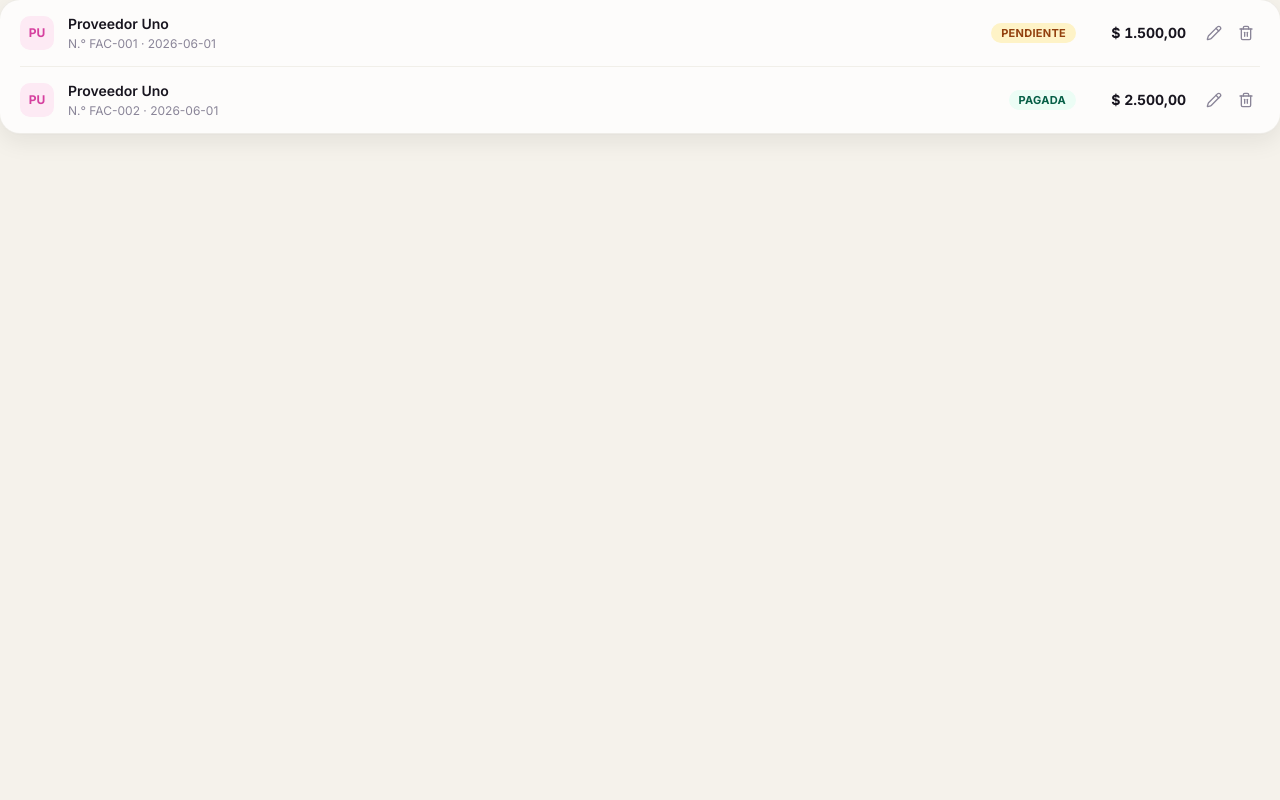
Scenario: FacturasList › opens the read-only detail when the row is activated (c-26)
Expected: the text "FAC-001" is shown, [89, 36, 138, 51]
What coordinates should you click on to do the following:
click the button with aria-label "ver detalle de la factura FAC-001"
I would click on:
 (37, 33)
Its box is [20, 14, 1186, 52].
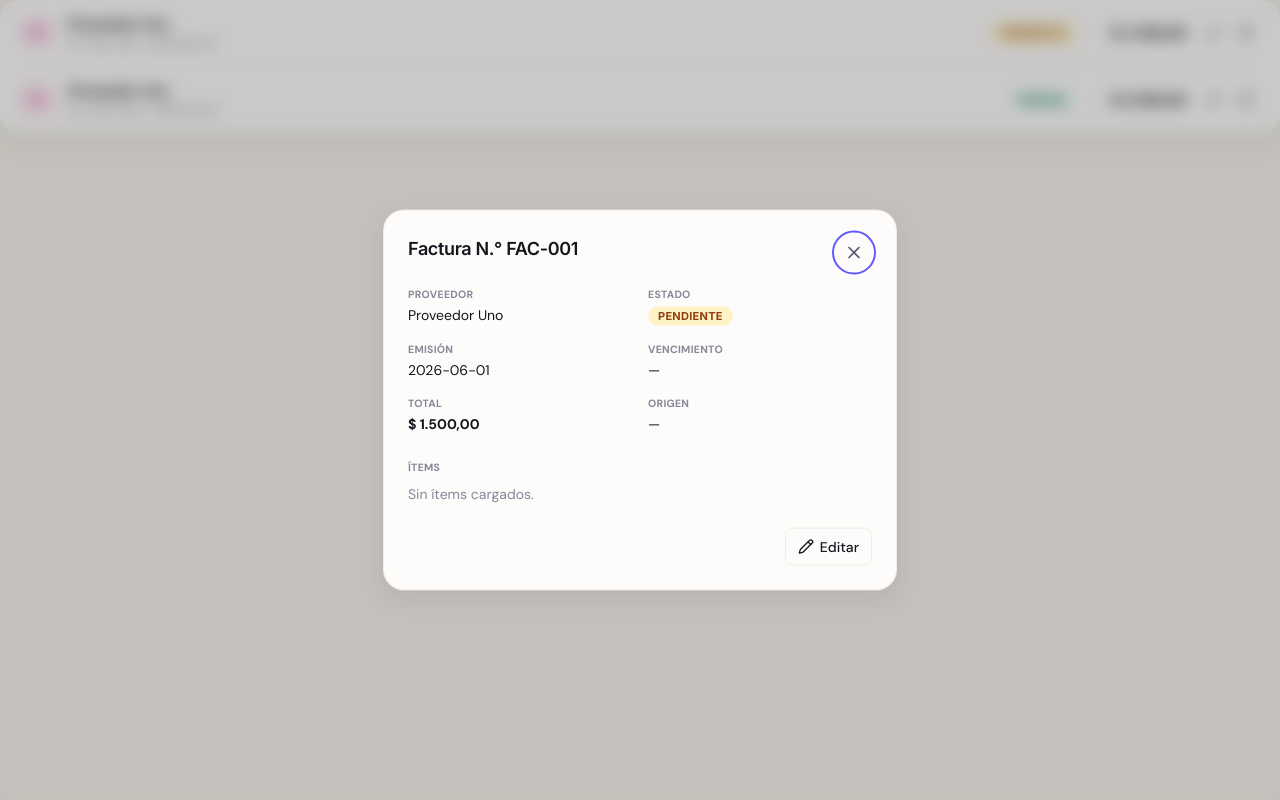
Expected: the dialog with test id "factura-detail-dialog" is shown, [384, 210, 896, 590]
Expected: the dialog with test id "factura-detail-dialog" shows "FAC-001", [506, 238, 578, 258]
